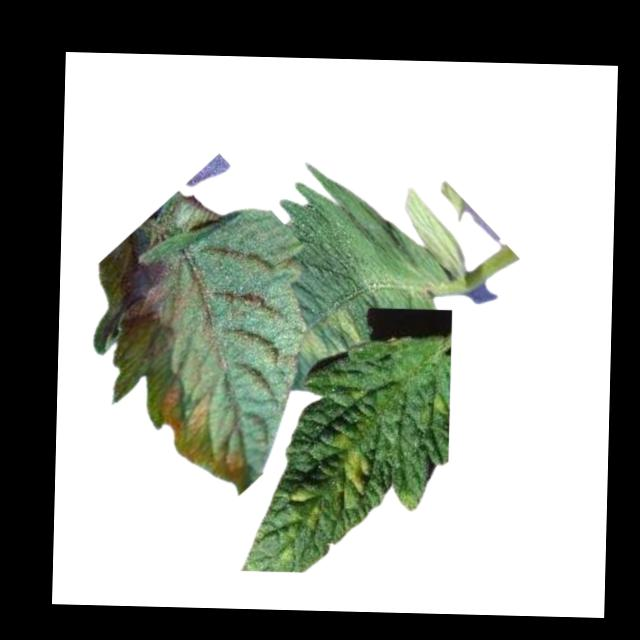Leaf_Mold: (152, 375, 249, 488), (297, 306, 361, 362), (327, 428, 373, 505), (286, 482, 326, 535)
